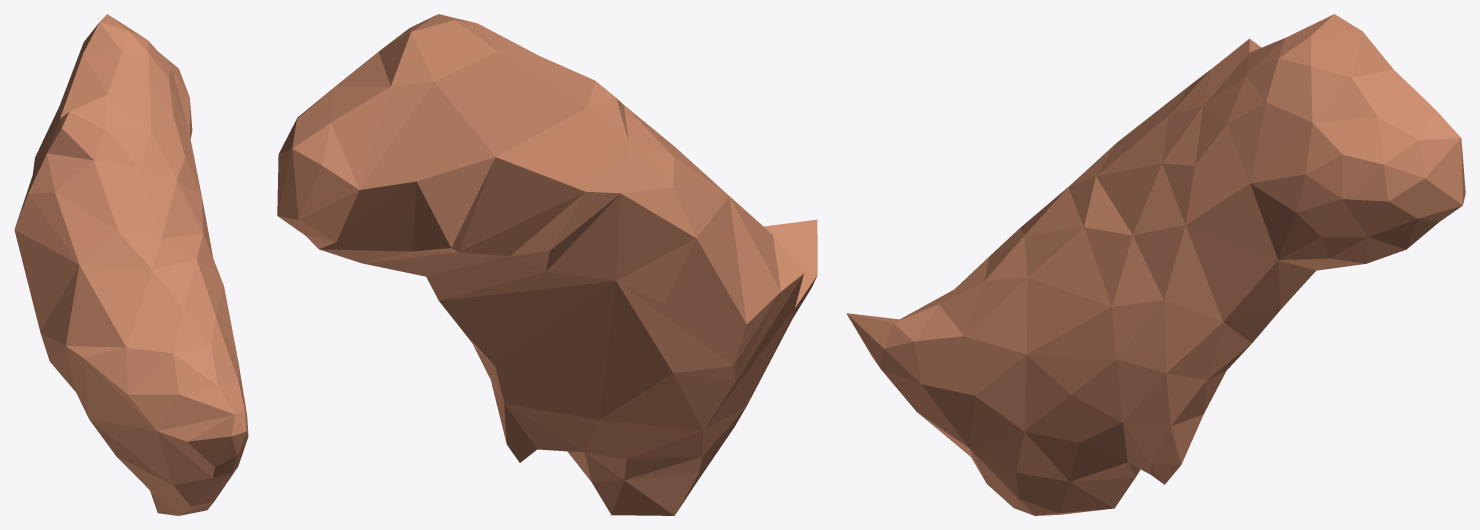
The model's file is Model_475_RH__Ventral_cochlear_nucleus__anterior_part_(VCA).obj.
The picture shows the model from 3 angles, left to right: view 1: azimuth 30°, elevation 25°; view 2: azimuth 150°, elevation 25°; view 3: azimuth 270°, elevation 25°; orthographic projection. The views are drawn at different scales.
Bounding box in the file's own units: 0.4641 × 0.8058 × 0.8722.
